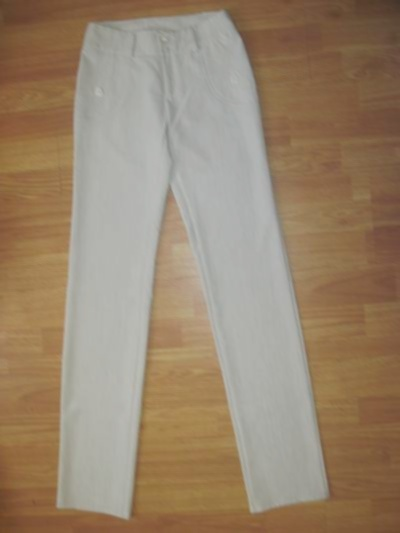Pants: (49, 9, 337, 520)
